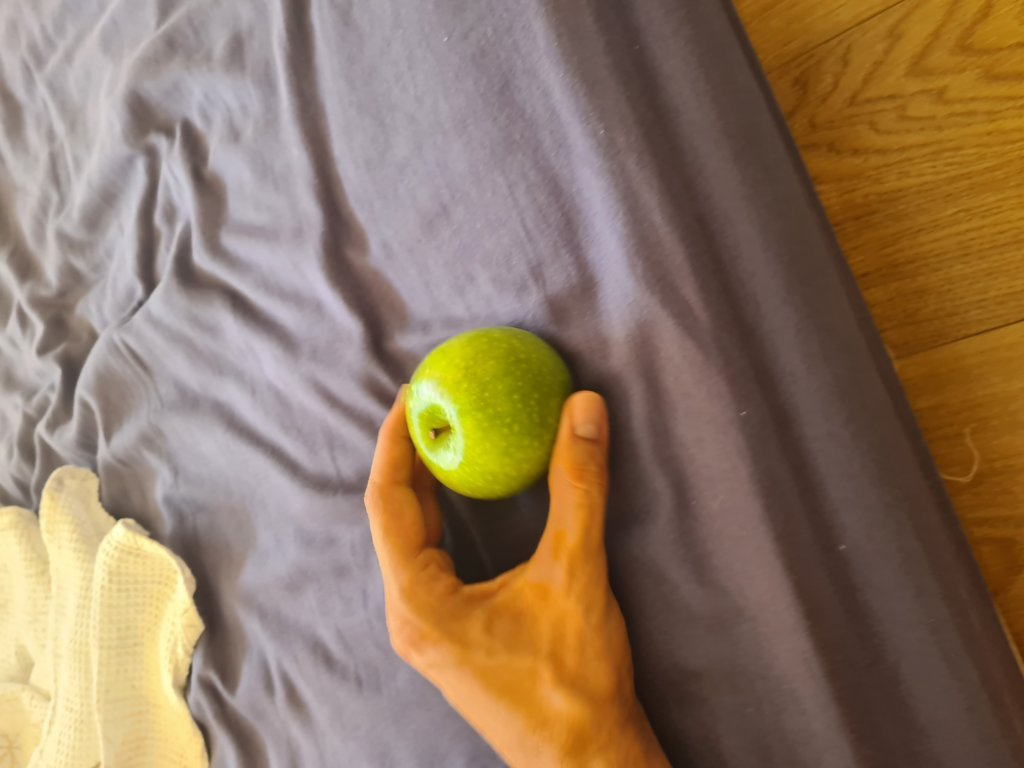apple: (403, 335, 573, 477)
